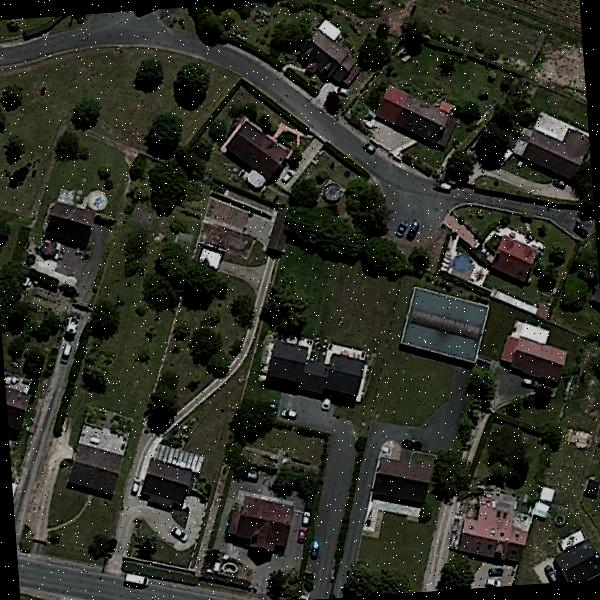Buildings: (265, 334, 364, 408), (403, 285, 485, 360), (518, 109, 586, 180), (289, 21, 360, 88), (382, 91, 450, 150), (369, 454, 436, 512), (461, 506, 526, 565), (229, 502, 292, 558), (228, 124, 284, 180), (502, 333, 566, 381), (482, 232, 542, 280), (142, 462, 198, 512), (72, 443, 120, 492), (47, 209, 100, 248), (5, 379, 33, 447), (554, 548, 598, 580)
